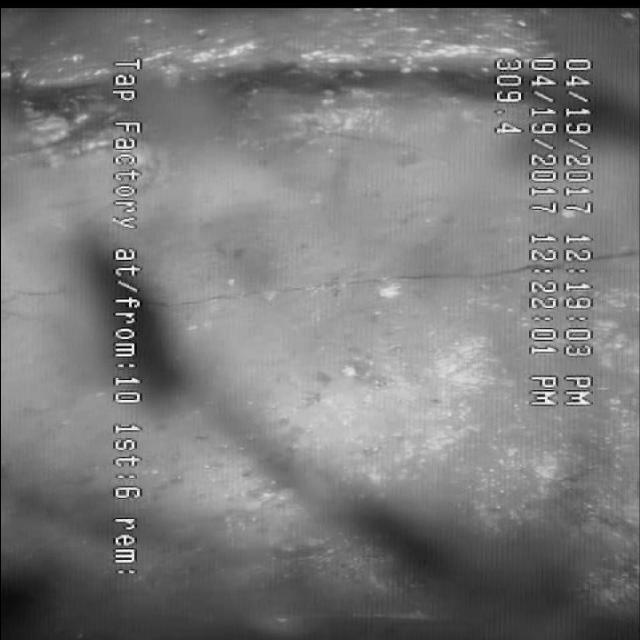Crack: (183, 240, 527, 332)
